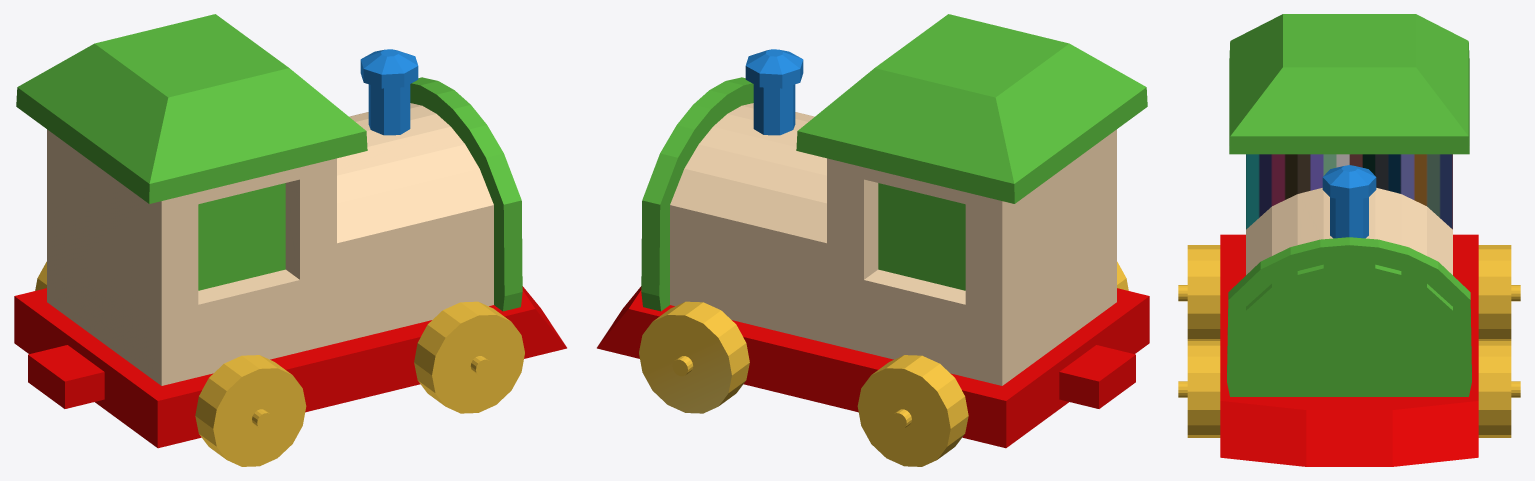
The model's file is Prop_ToyTrain_01.fbx.
3 renders of one model, left to right at view 1: azimuth 30°, elevation 25°; view 2: azimuth 150°, elevation 25°; view 3: azimuth 270°, elevation 25°, orthographic. The views are drawn at different scales.
Parts seen in each view (by area): view 1: Prop_ToyTrain_01; view 2: Prop_ToyTrain_01; view 3: Prop_ToyTrain_01.
Boxes of the visible parts, bbox=[...] form: Prop_ToyTrain_01: bbox=[14, 14, 566, 466]; Prop_ToyTrain_01: bbox=[597, 14, 1149, 466]; Prop_ToyTrain_01: bbox=[1178, 14, 1520, 466].
Size of the model in its own units: 38.41 by 26.48 by 26.82.
